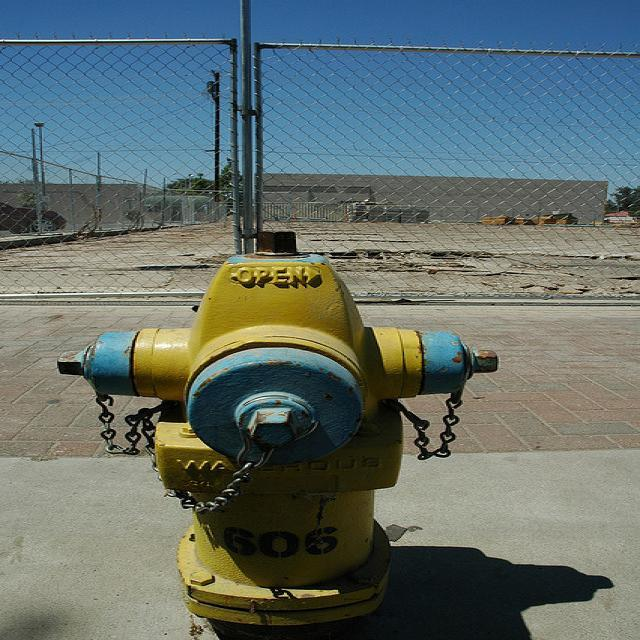fire_hydrant: (49, 232, 503, 626)
